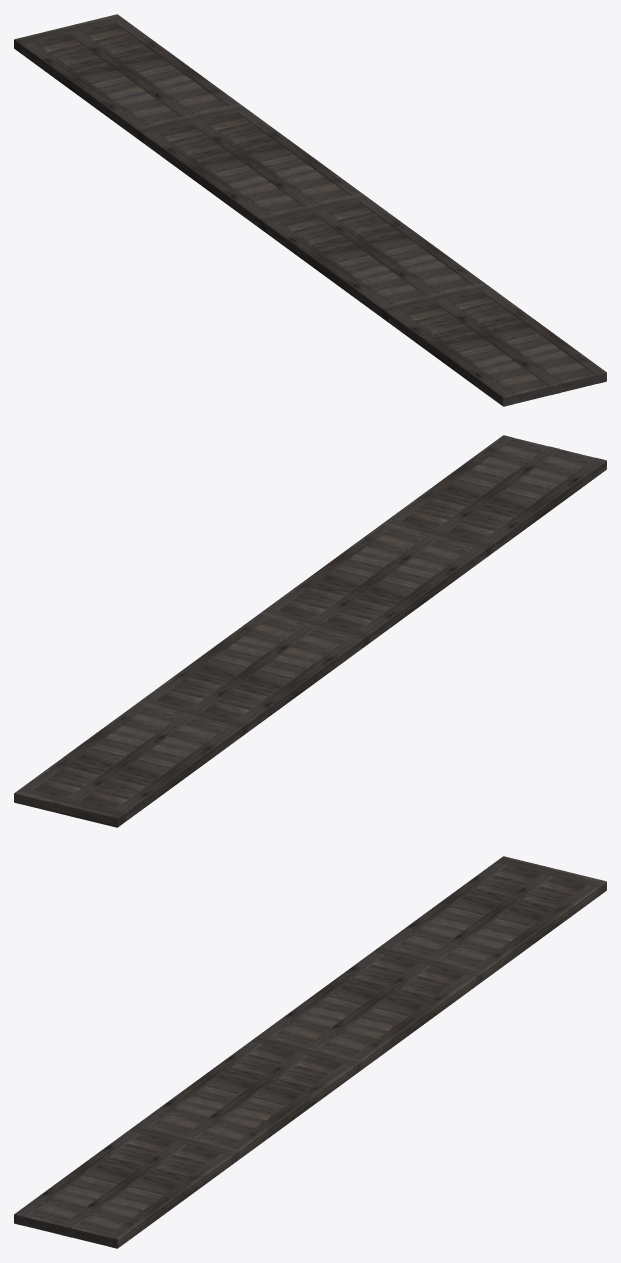
The model's file is SM_Unhyun_Norak_Floor_E001.fbx.
3 renders of one model, top to bottom at view 1: azimuth 30°, elevation 25°; view 2: azimuth 150°, elevation 25°; view 3: azimuth 330°, elevation 25°, orthographic.
Parts seen in each view (by area): view 1: SM_Unhyun_Norak_Floor_E001; view 2: SM_Unhyun_Norak_Floor_E001; view 3: SM_Unhyun_Norak_Floor_E001.
Part boxes in pixels (x1,y1,x2,y2): SM_Unhyun_Norak_Floor_E001: [14, 14, 606, 406]; SM_Unhyun_Norak_Floor_E001: [14, 435, 606, 827]; SM_Unhyun_Norak_Floor_E001: [14, 856, 606, 1248].
Size of the model in its own units: 128 by 11.89 by 1044.
